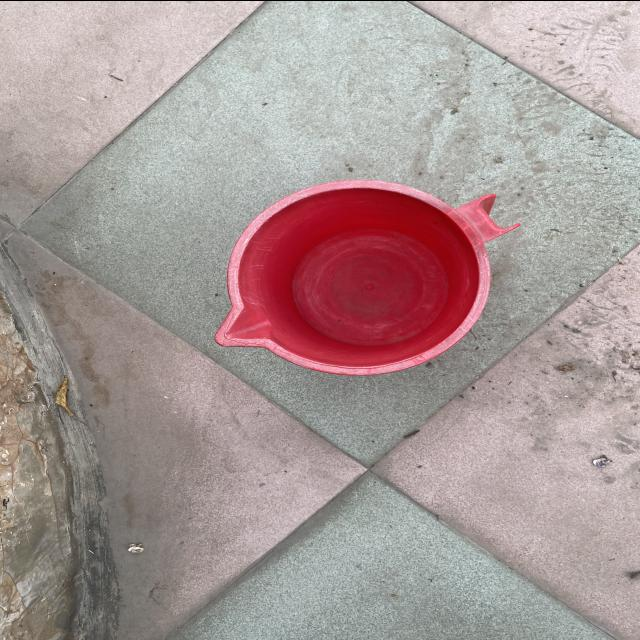Breeding Place: (208, 178, 512, 379)
